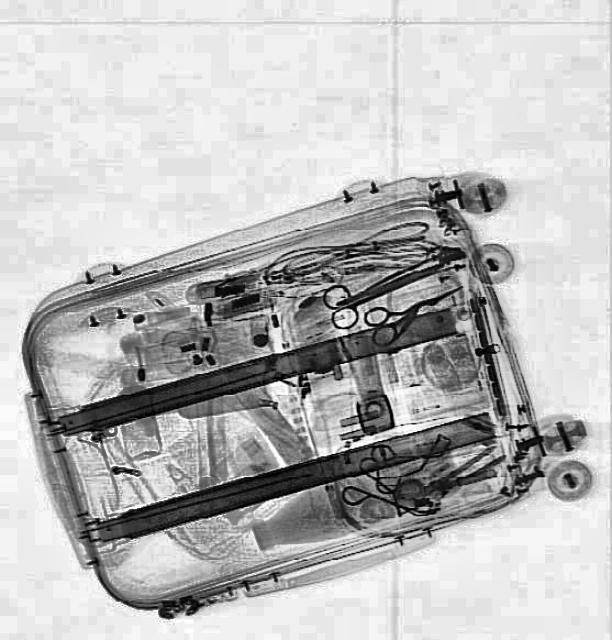Scissors: (317, 248, 445, 332), (359, 276, 473, 346)
